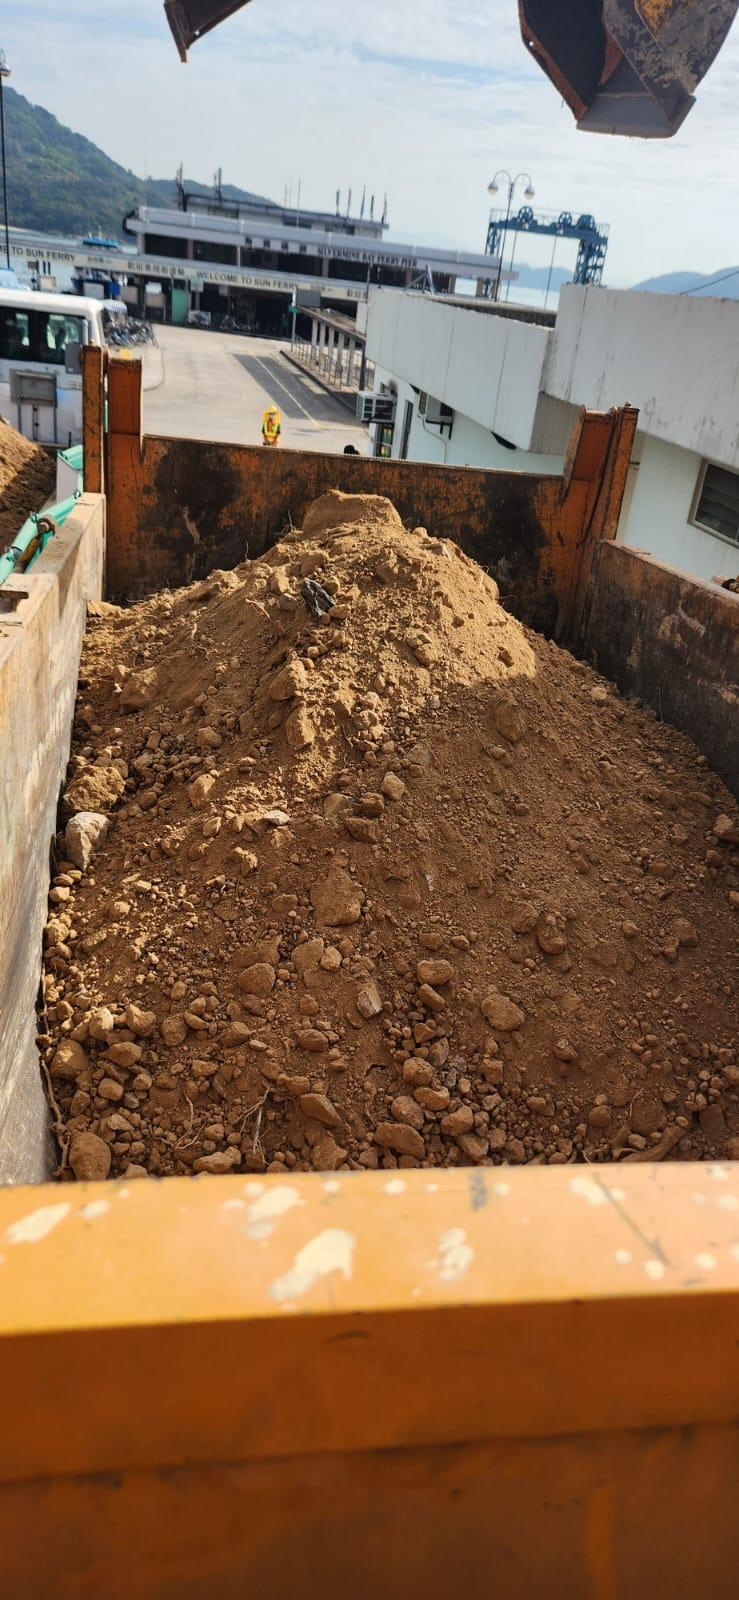dirt: (36, 487, 737, 1177)
